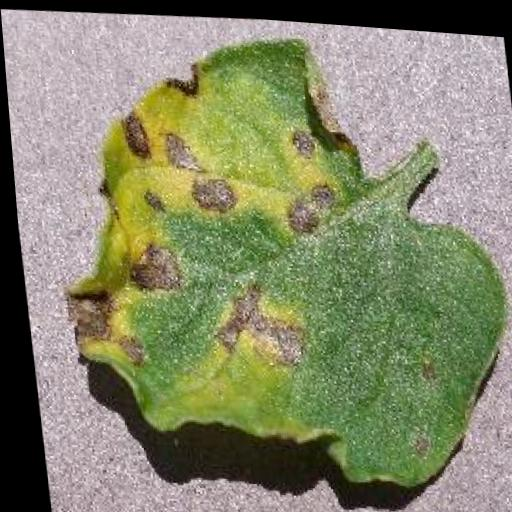Septoria: (26, 12, 512, 503)
